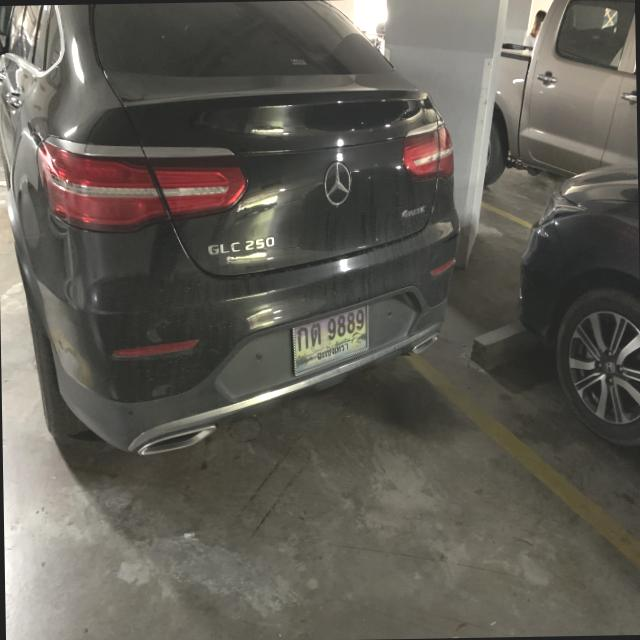license_plate: (290, 300, 373, 382)
